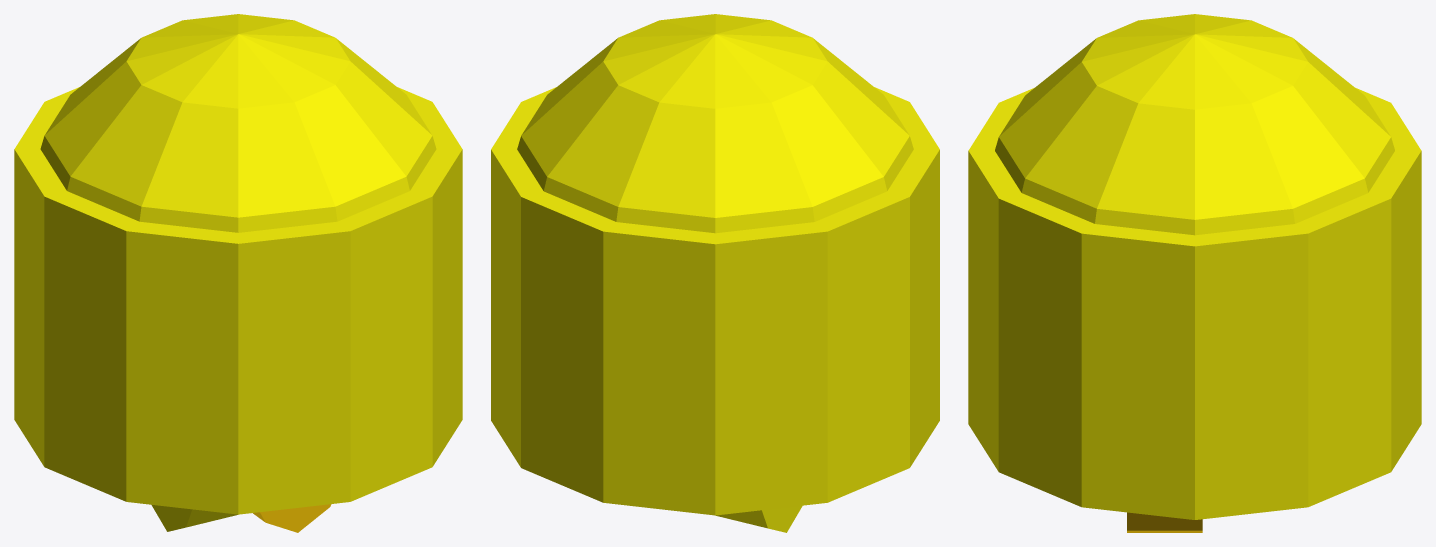
The picture shows the model from 3 angles, left to right: view 1: azimuth 30°, elevation 25°; view 2: azimuth 150°, elevation 25°; view 3: azimuth 270°, elevation 25°; orthographic projection.
Visible parts, largest first — view 1: cylinder (×3), sphere; view 2: cylinder (×2), sphere; view 3: cylinder (×2), sphere.
Part boxes in pixels (x1,y1,x2,y2): cylinder (×3): [14, 87, 462, 532]; sphere: [40, 14, 436, 232]; cylinder (×2): [491, 87, 939, 532]; sphere: [517, 14, 913, 233]; cylinder (×2): [968, 88, 1421, 532]; sphere: [995, 14, 1394, 235].
Size of the model in its own units: 0.6 by 0.71 by 0.6.
